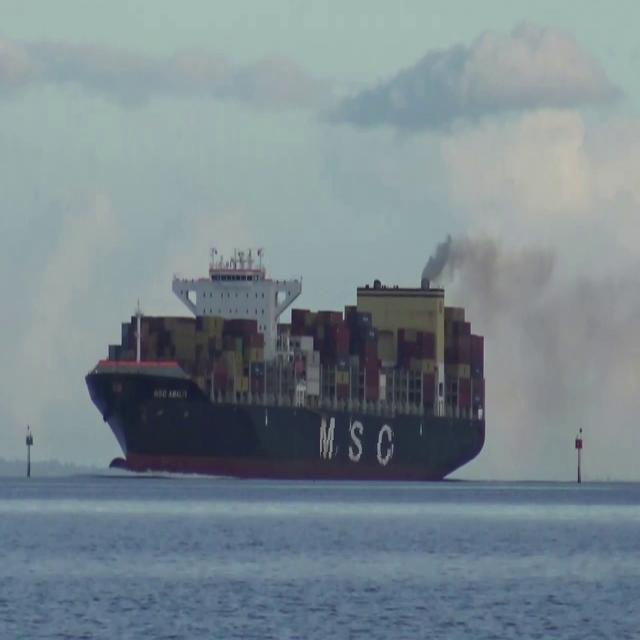OCR: (320, 408, 395, 467)
